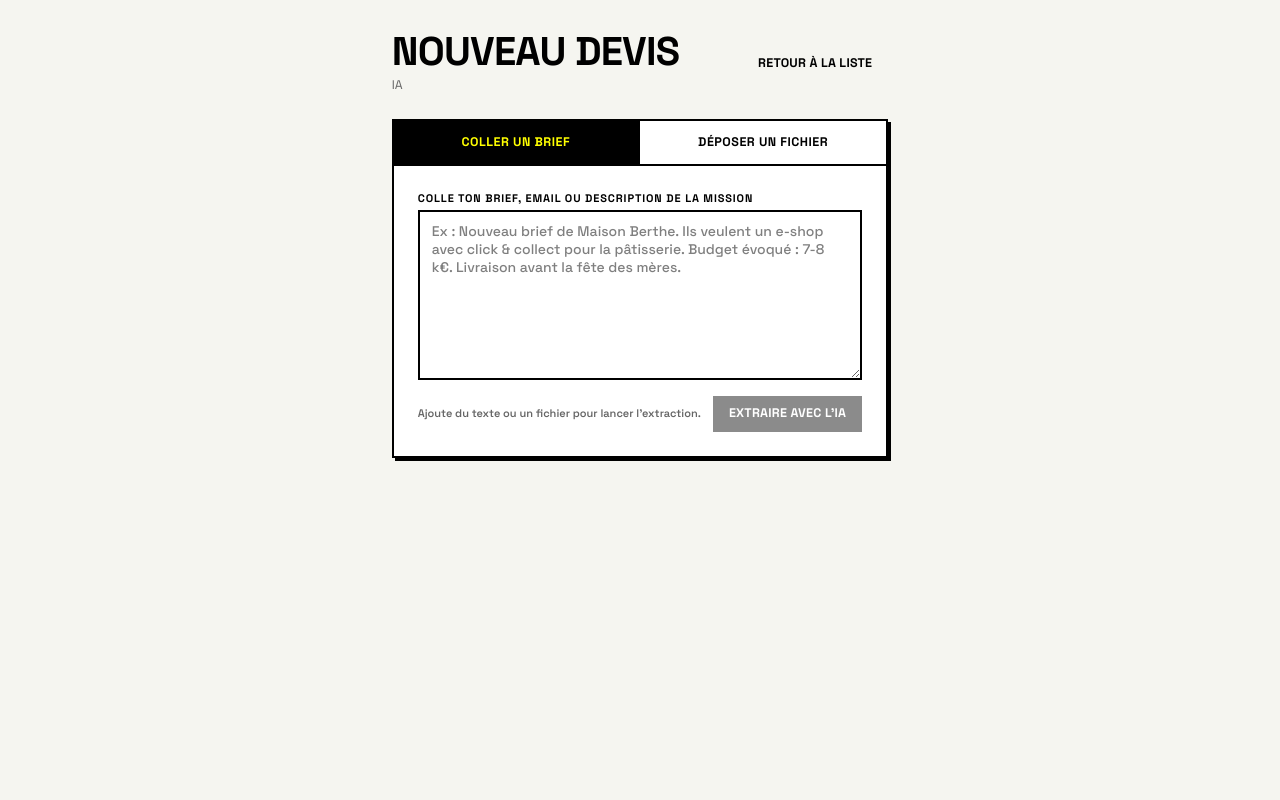
Test: NewAi route › lance l'extraction et affiche les lignes extraites éditables
Replace the text in the text box with test id "ai-brief" with "Brief complet Maison Berthe": (640, 295) [418, 210, 862, 380]
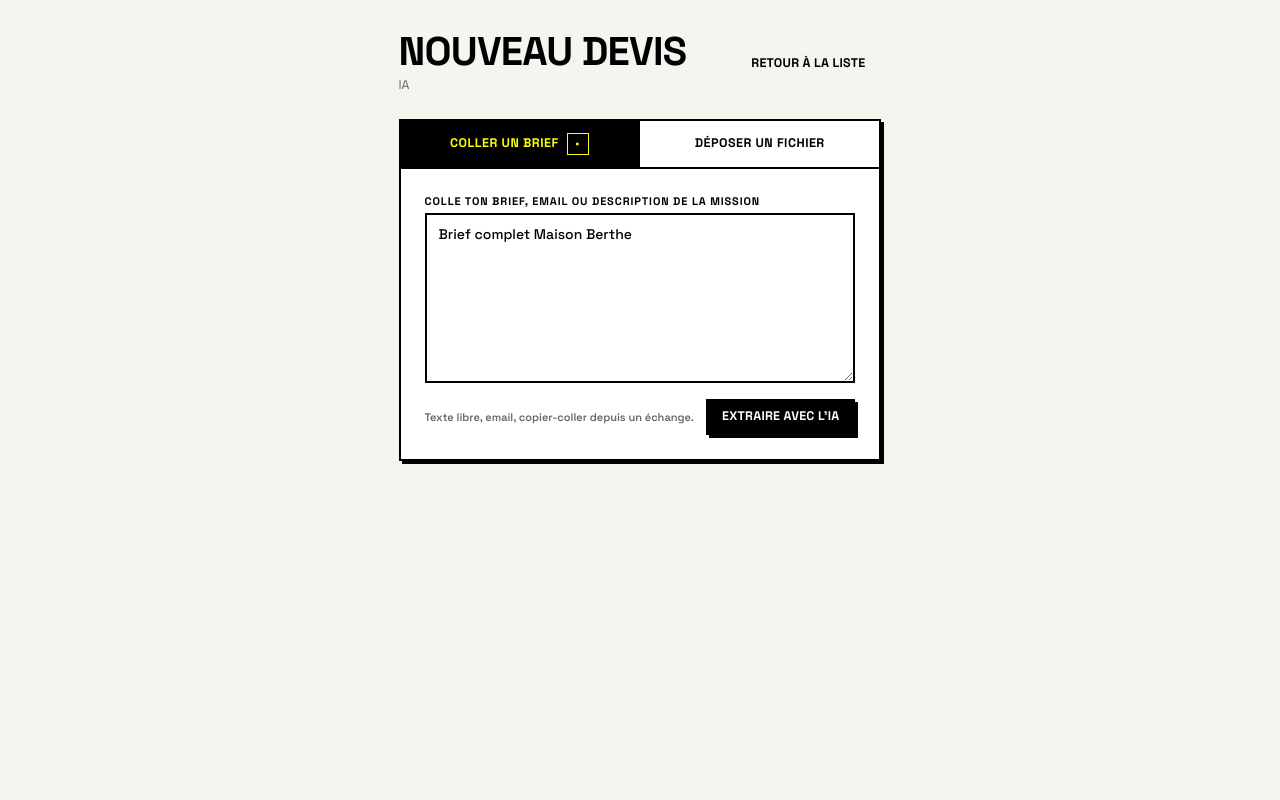
Click the button with test id "ai-extract": (781, 417) [706, 399, 855, 435]
(page scrolled)
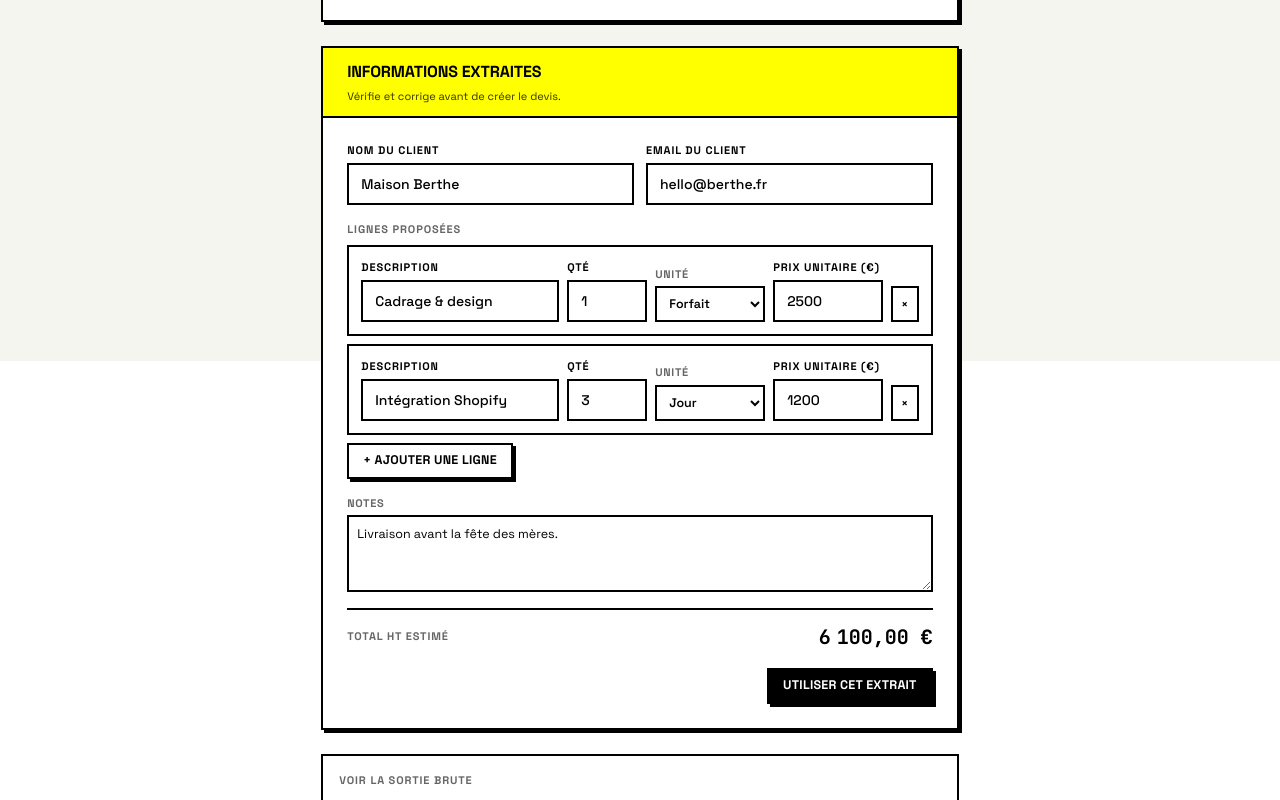
Expected: the element with test id "ai-extracted" is shown, [321, 46, 959, 730]
Expected: the field with test id "ai-edit-client-name" holds "Maison Berthe", [347, 163, 634, 205]
Expected: the field with test id "ai-edit-item-0-desc" holds "Cadrage & design", [361, 280, 559, 322]
